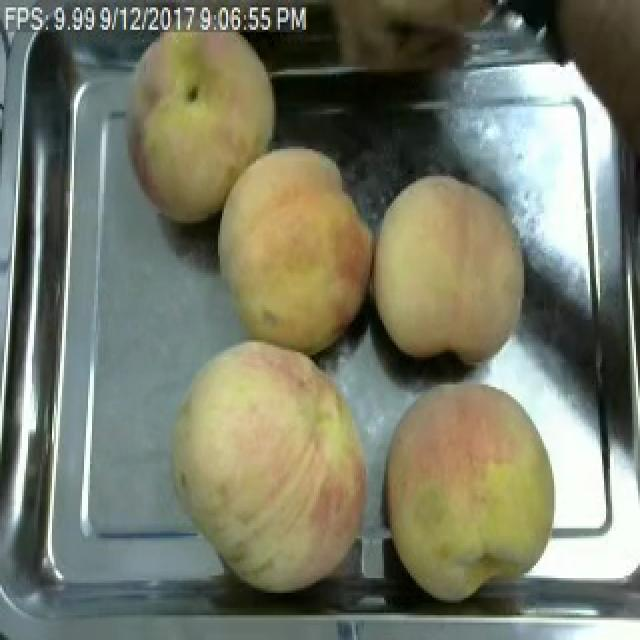Fruit: (162, 332, 384, 603), (374, 370, 568, 612), (204, 139, 376, 367), (114, 10, 286, 233), (366, 166, 540, 375), (526, 0, 640, 149)
